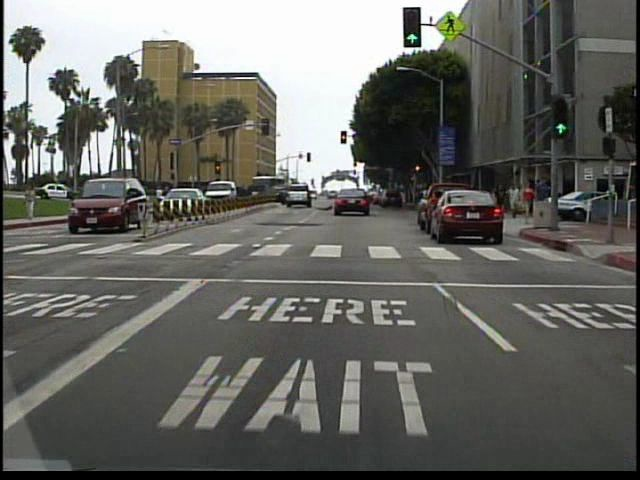person: (534, 174, 551, 223), (26, 181, 44, 221), (518, 183, 535, 225), (507, 180, 521, 222)
